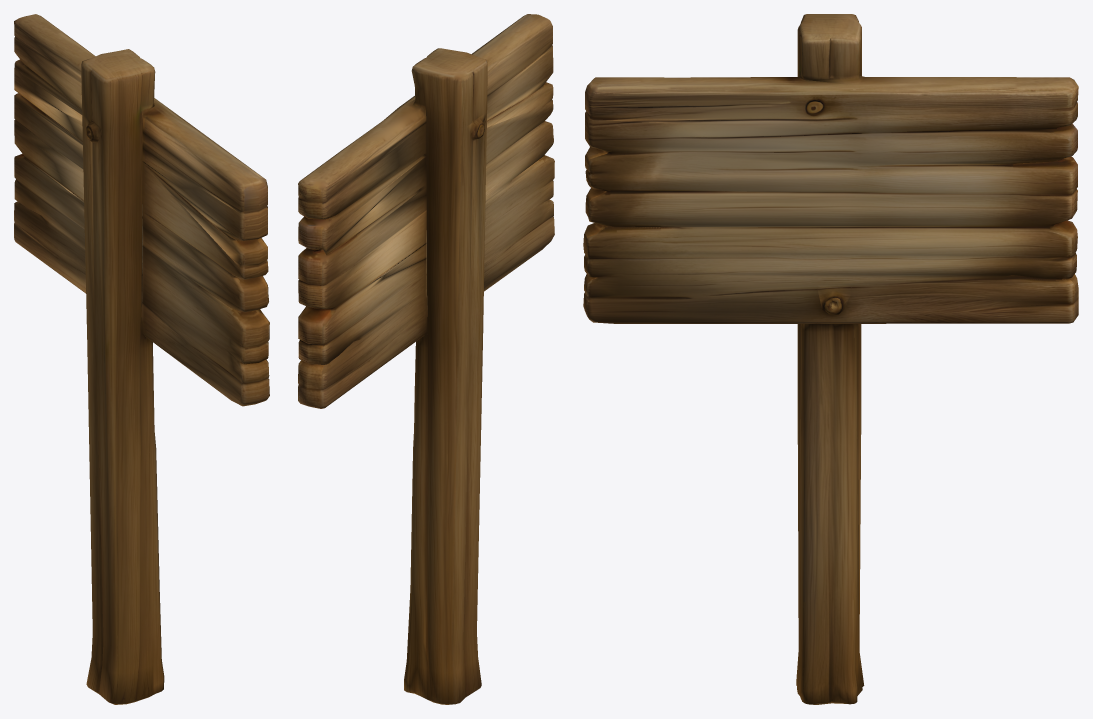
Rendered from WoodSign.fbx.
The picture shows the model from 3 angles, left to right: view 1: azimuth 30°, elevation 25°; view 2: azimuth 150°, elevation 25°; view 3: azimuth 270°, elevation 25°; orthographic projection. The views are drawn at different scales.
Parts seen in each view (by area): view 1: WoodSign; view 2: WoodSign; view 3: WoodSign.
Boxes of the visible parts, x1=… form: WoodSign: x1=14, y1=14, x2=269, y2=704; WoodSign: x1=298, y1=14, x2=554, y2=704; WoodSign: x1=583, y1=14, x2=1078, y2=704.
Size of the model in its own units: 22.85 by 190 by 128.
